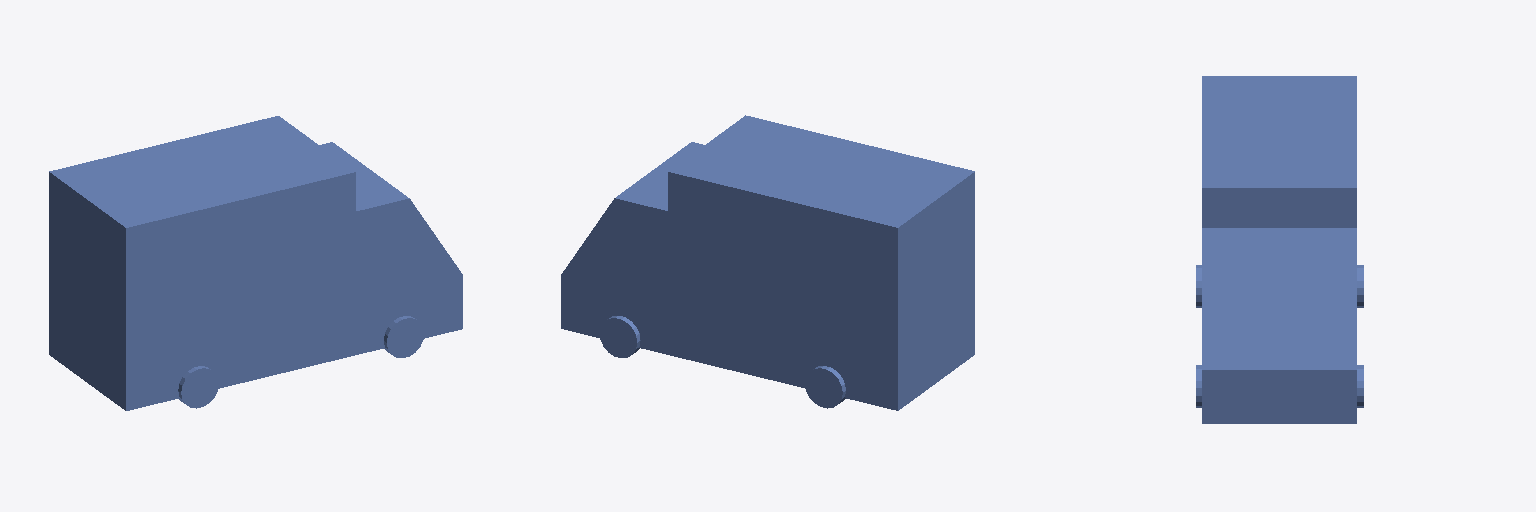
Rendered from car-1.obj.
3 views of the same model, side by side, from view 1: azimuth 30°, elevation 25°; view 2: azimuth 150°, elevation 25°; view 3: azimuth 270°, elevation 25° (orthographic).
Parts seen in each view (by area): view 1: Car_09; view 2: Car_09; view 3: Car_09.
Boxes of the visible parts, x1=… form: Car_09: x1=49, y1=116, x2=462, y2=410; Car_09: x1=561, y1=115, x2=974, y2=410; Car_09: x1=1196, y1=76, x2=1363, y2=423.
Size of the model in its own units: 307 by 169 by 132.